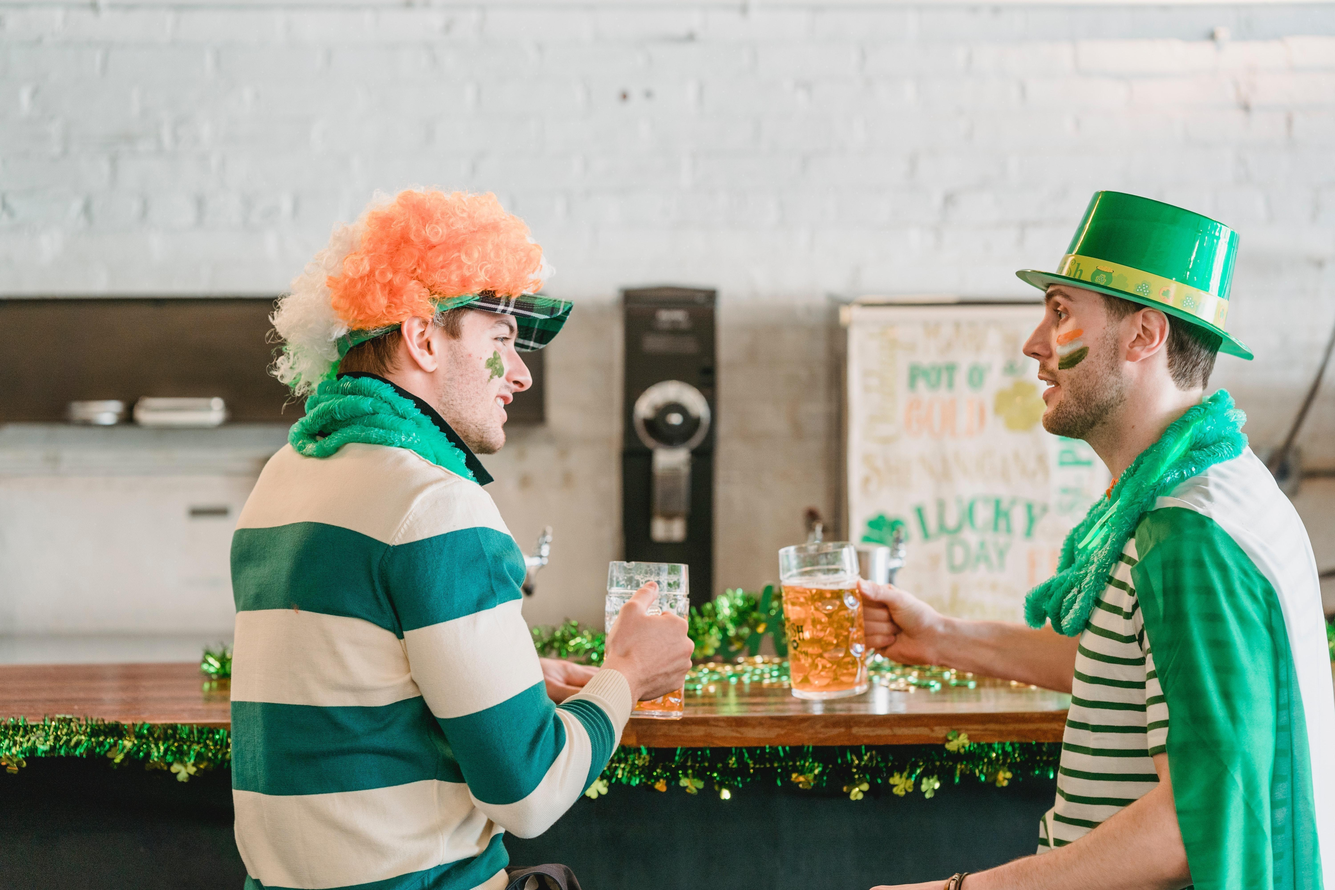glass-mug: (767, 536, 897, 700), (601, 555, 695, 717)
